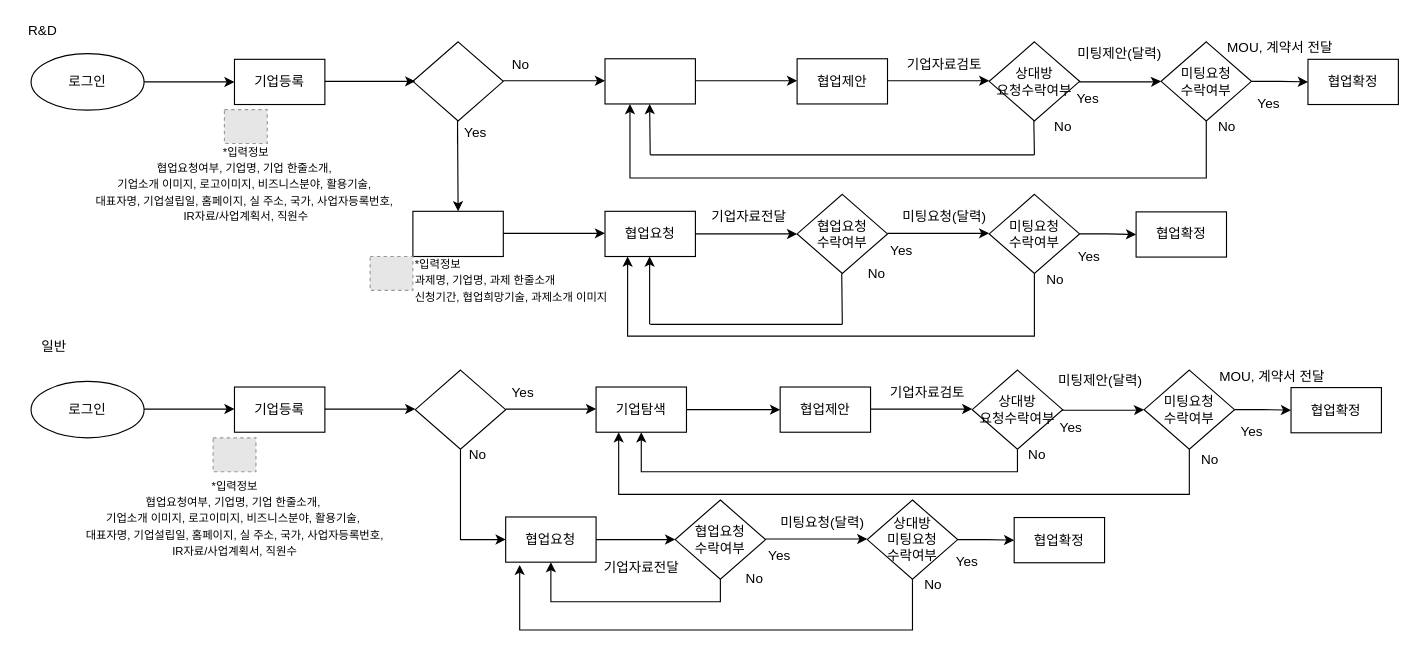
Image size: 1418x659. Some labels were removed from this diagram. Grey dashed boxes stand in for pictures. Each missing label, with the box of its shape:
과제등록: (412, 210, 503, 257)
과제주관여부: (412, 41, 503, 121)
과제탐색: (604, 58, 695, 104)
협업제안 주체여부: (414, 369, 506, 449)
